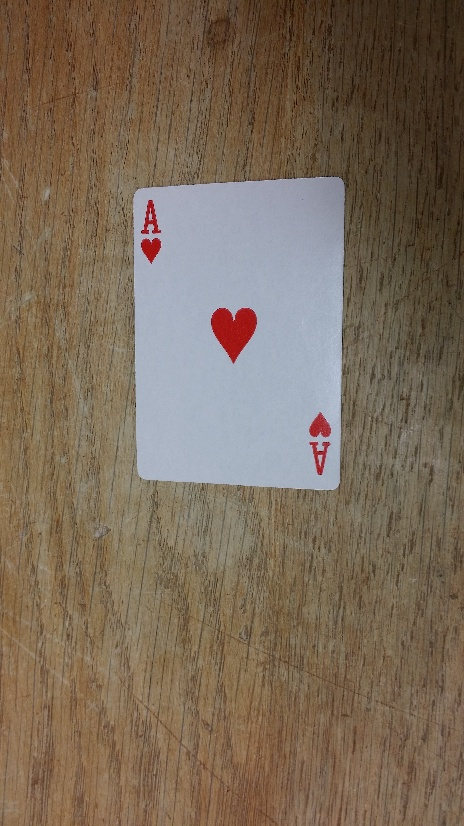Ha: (303, 405, 335, 481), (134, 192, 165, 266)
